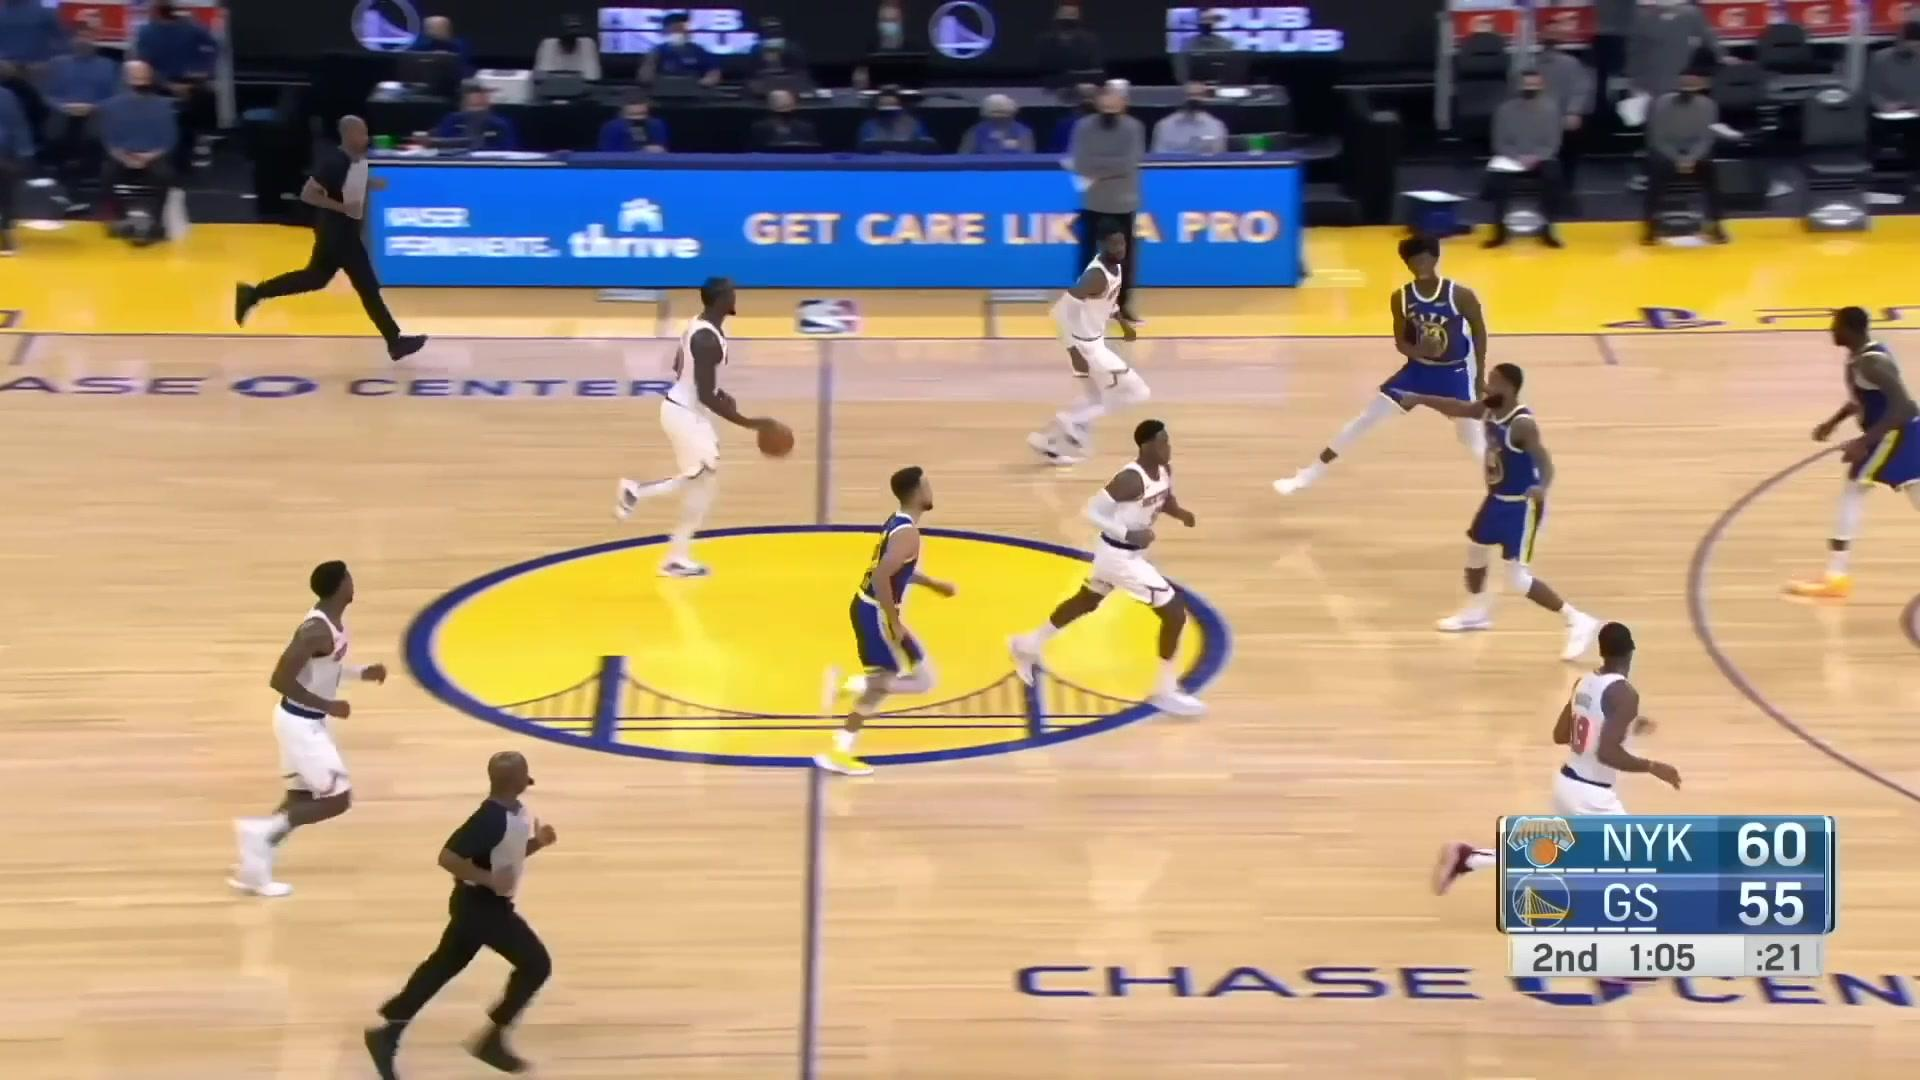no_foul: (596, 253, 803, 560)
